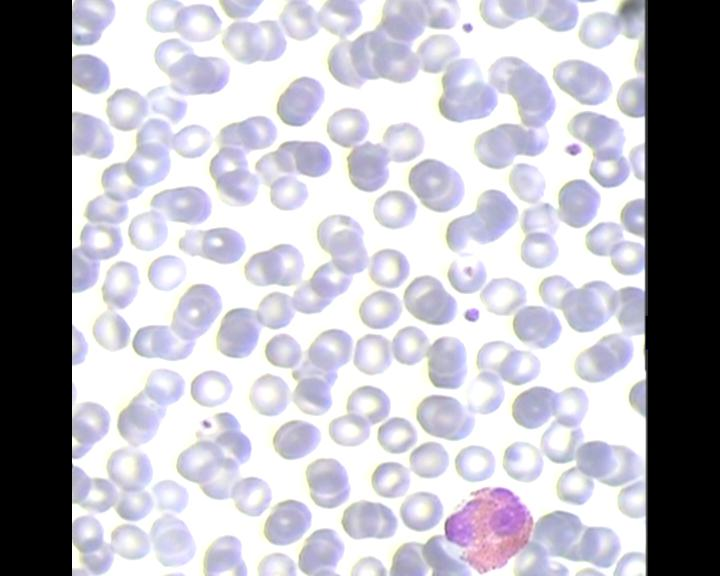eosi: (440, 484, 532, 574)
